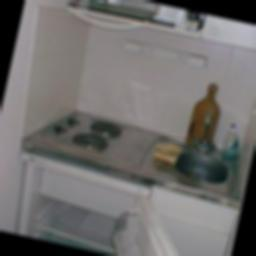Electrodomestico: (20, 103, 160, 179)
Lavaplatos: (149, 131, 247, 206)
